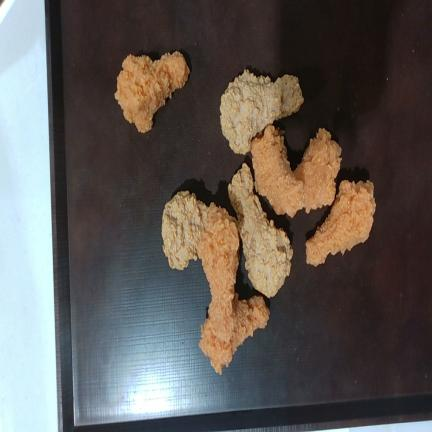chicken: (228, 163, 293, 297), (220, 69, 303, 154), (114, 52, 189, 133), (252, 125, 304, 217), (294, 128, 341, 212), (162, 191, 207, 269)
